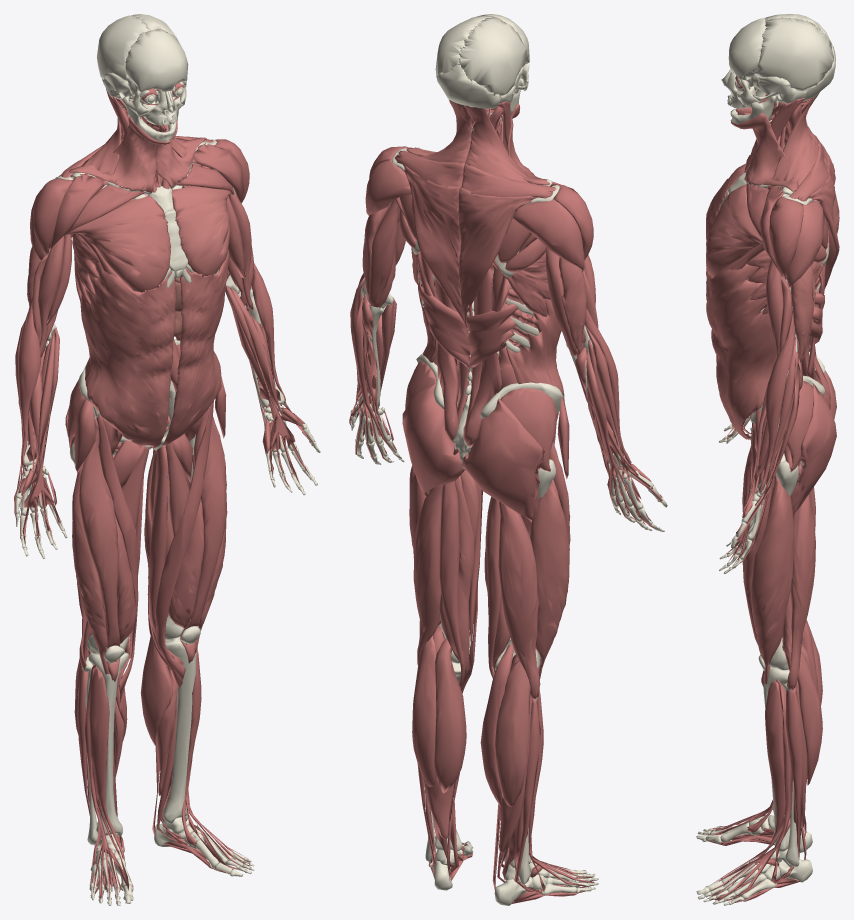
Rendered from anatomy-balanced.glb.
3 renders of one model, left to right at view 1: azimuth 30°, elevation 25°; view 2: azimuth 150°, elevation 25°; view 3: azimuth 270°, elevation 25°, orthographic. The views are drawn at different scales.
Parts seen in each view (by area): view 1: FMA23881, FMA13336, FMA9622, FMA9621, FMA13337, FMA79979, FMA38928, FMA9617, FMA79980, FMA38929, FMA22355, FMA38930 (+29 smaller); view 2: FMA23881, FMA22594, FMA9621, FMA9622, FMA22328, FMA45888, FMA38930, FMA33583, FMA33581, FMA22329, FMA45960, FMA45958 (+34 smaller); view 3: FMA23881, FMA13337, FMA9622, FMA38931, FMA9621, FMA45889, FMA79980, FMA22329, FMA9617, FMA22545, FMA34683, FMA45961 (+25 smaller).
Part boxes in pixels (<box>): FMA23881: <box>15,14,320,905</box>; FMA13336: <box>80,261,175,448</box>; FMA9622: <box>74,344,249,899</box>; FMA9621: <box>14,116,313,546</box>; FMA13337: <box>161,249,229,445</box>; FMA79979: <box>65,195,170,292</box>; FMA38928: <box>79,419,120,681</box>; FMA9617: <box>69,98,206,192</box>; FMA79980: <box>171,186,231,276</box>; FMA38929: <box>180,407,227,663</box>; FMA22355: <box>155,401,213,687</box>; FMA38930: <box>72,463,108,674</box>; FMA23881: <box>350,14,667,905</box>; FMA22594: <box>417,106,517,446</box>; FMA9621: <box>349,115,662,530</box>; FMA9622: <box>417,397,594,903</box>; FMA22328: <box>463,398,544,522</box>; FMA45888: <box>498,501,540,700</box>; FMA38930: <box>530,479,569,679</box>; FMA33583: <box>403,165,467,328</box>; FMA33581: <box>458,187,537,328</box>; FMA22329: <box>402,383,465,496</box>; FMA45960: <box>495,660,530,806</box>; FMA45958: <box>434,638,466,793</box>; FMA23881: <box>696,14,835,905</box>; FMA13337: <box>706,263,777,439</box>; FMA9622: <box>706,410,806,902</box>; FMA38931: <box>751,473,794,684</box>; FMA9621: <box>724,121,829,567</box>; FMA45889: <box>786,493,815,692</box>; FMA79980: <box>706,184,763,276</box>; FMA22329: <box>790,383,836,514</box>; FMA9617: <box>730,97,798,191</box>; FMA22545: <box>750,680,785,861</box>; FMA34683: <box>769,196,803,279</box>; FMA45961: <box>782,645,822,785</box>.
Size of the model in its own units: 0.6478 by 1.71 by 0.2608.
